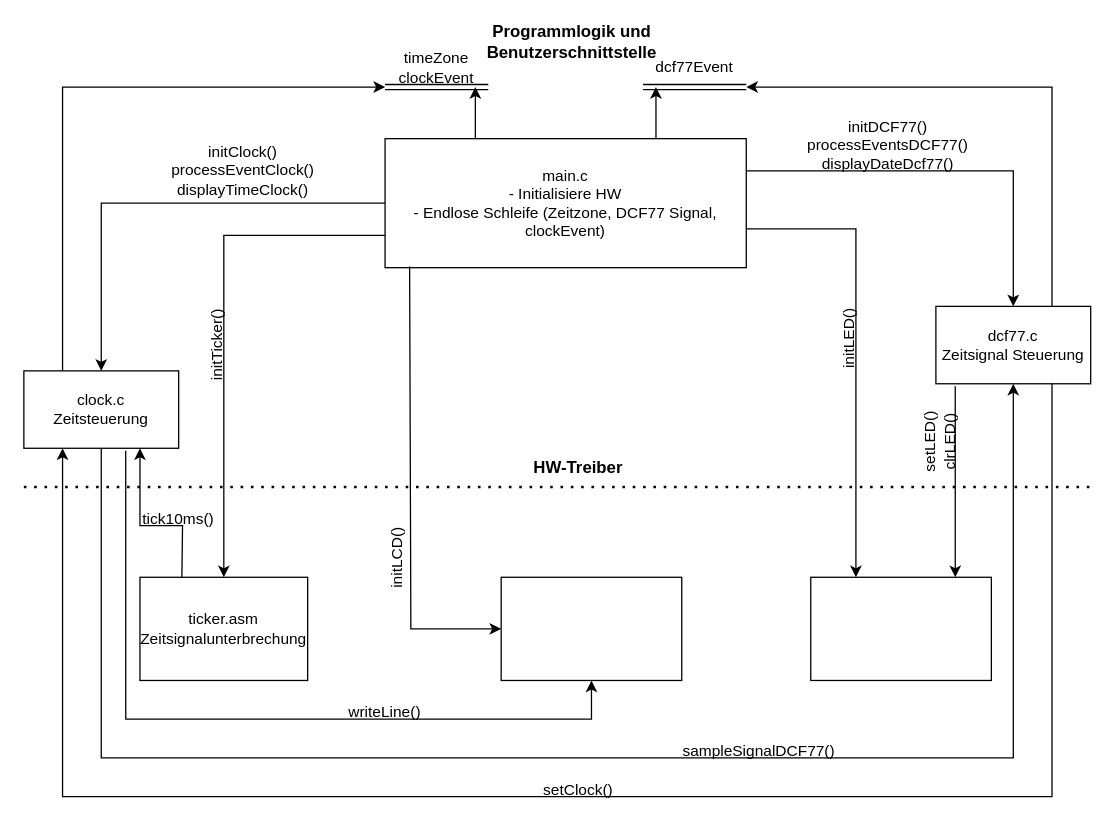
This 1118x832 diagram has some shape labels left out. Each missing label, with the box of its shape:
lcd.asm LCD-Treiber: (500, 576, 682, 680)
led.asm LED Treiber: (809, 576, 991, 680)
